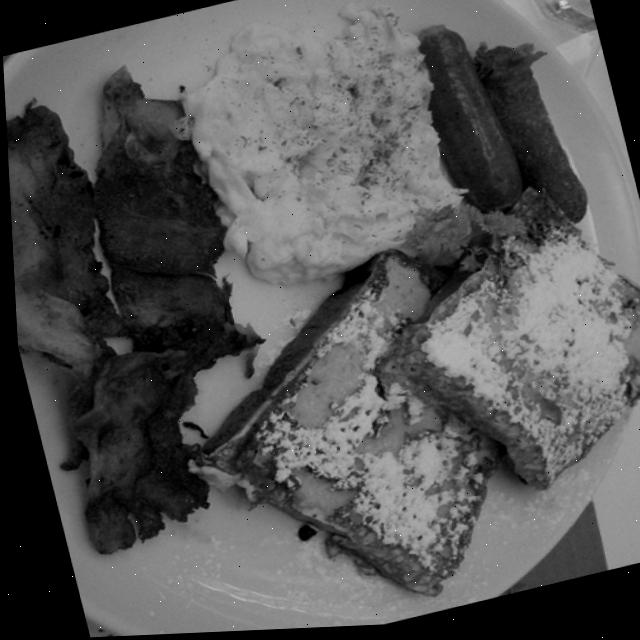面包点心: (141, 192, 640, 635)
